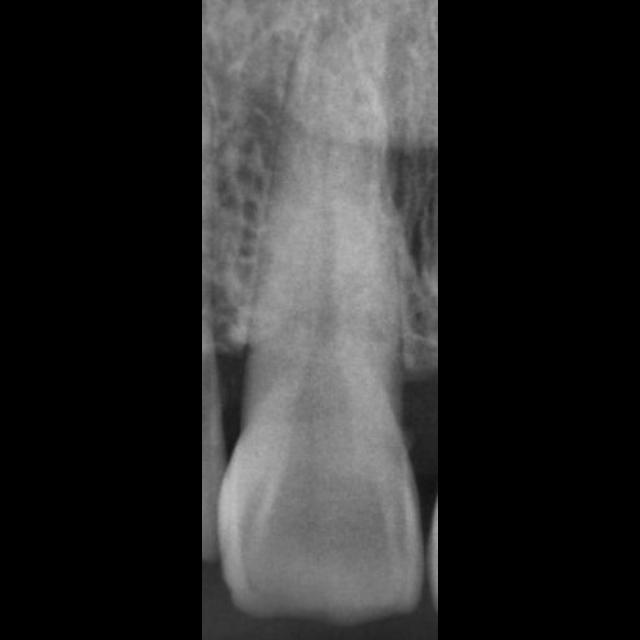tooth: (216, 11, 428, 625)
